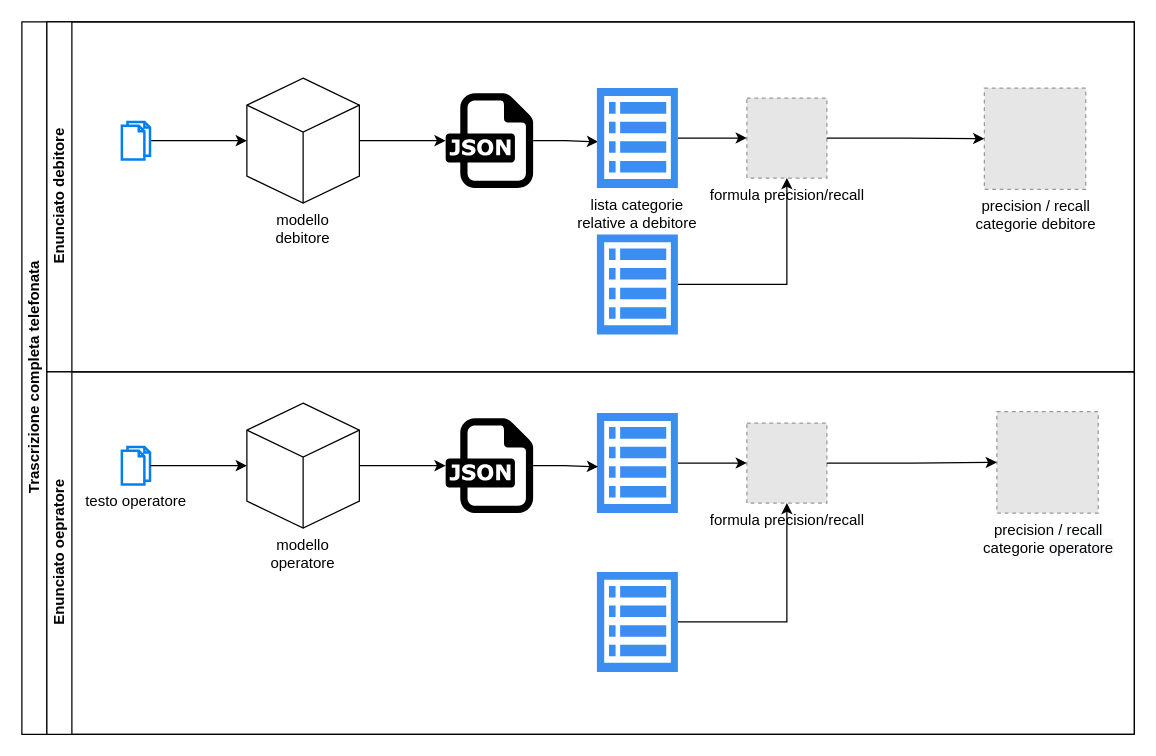
Some shapes in this 1156 by 756 pixel diagram are drawn without their labels. Grey dashed boxes stand in for pictures. Here are the shapes that lost their labels. From the top down, the centre of each, then its label:
(x=135, y=140): testo debitore
(x=488, y=140): categorie debitore
(x=636, y=284): lista categorie MANUALI relative a debitore
(x=488, y=465): categorie operatore
(x=636, y=462): lista categorie relative a operatore
(x=636, y=621): lista categorie MANUALI relative a operatore
